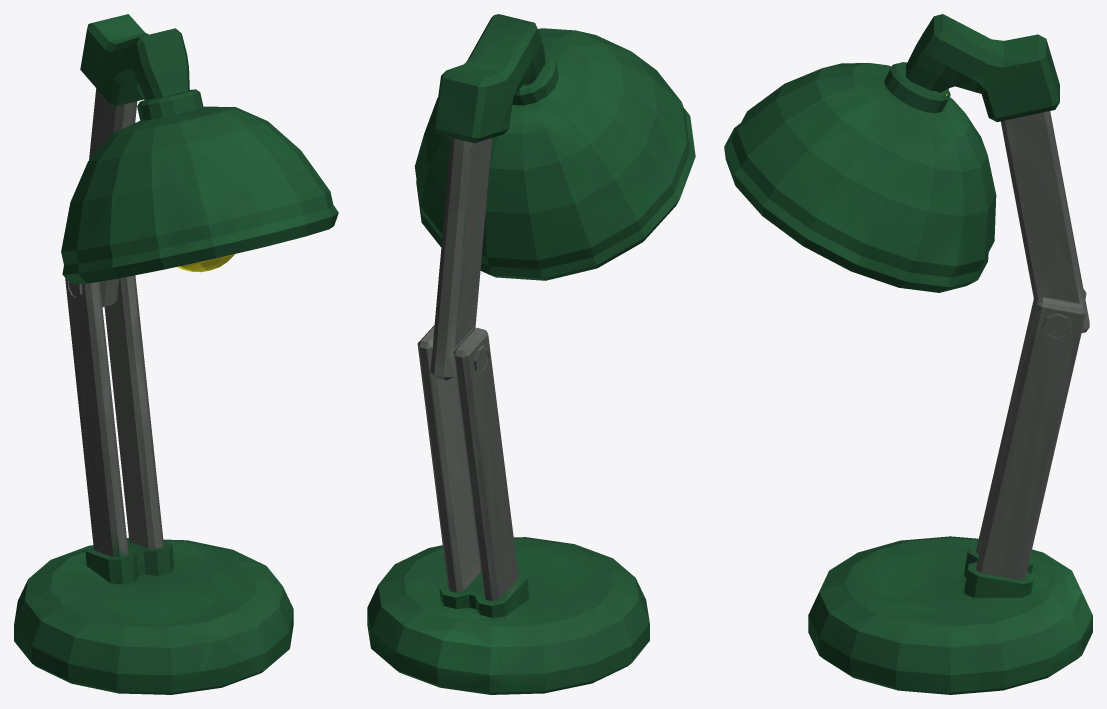
The model's file is lampnotexture.fbx.
The picture shows the model from 3 angles, left to right: view 1: azimuth 30°, elevation 25°; view 2: azimuth 150°, elevation 25°; view 3: azimuth 270°, elevation 25°; orthographic projection.
Parts seen in each view (by area): view 1: Sphere.001; view 2: Sphere.001; view 3: Sphere.001.
Part boxes in pixels (x1,y1,x2,y2): Sphere.001: (14, 14, 338, 694); Sphere.001: (367, 14, 695, 694); Sphere.001: (724, 14, 1092, 694).
Size of the model in its own units: 125 by 295 by 161.
